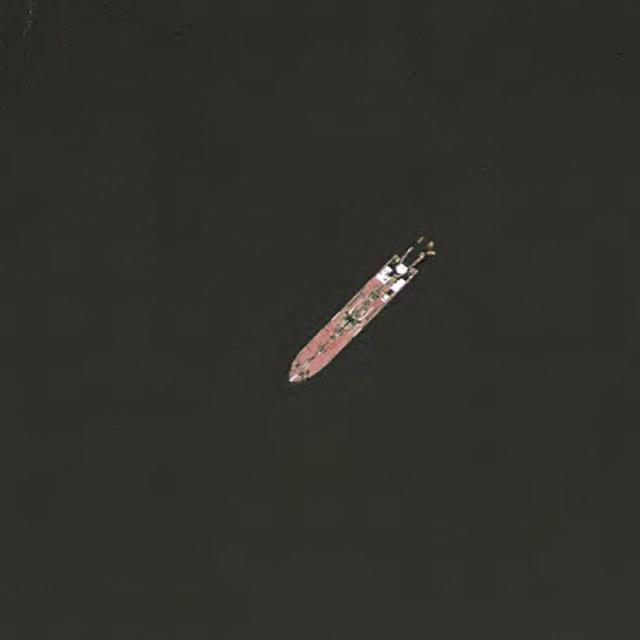Oil Tanker: (277, 226, 442, 394)
